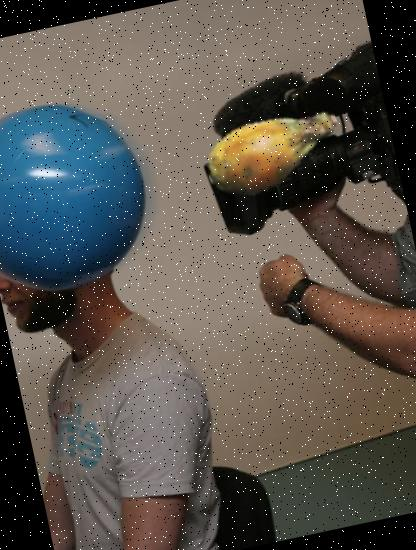Cactus: (191, 67, 357, 234)
